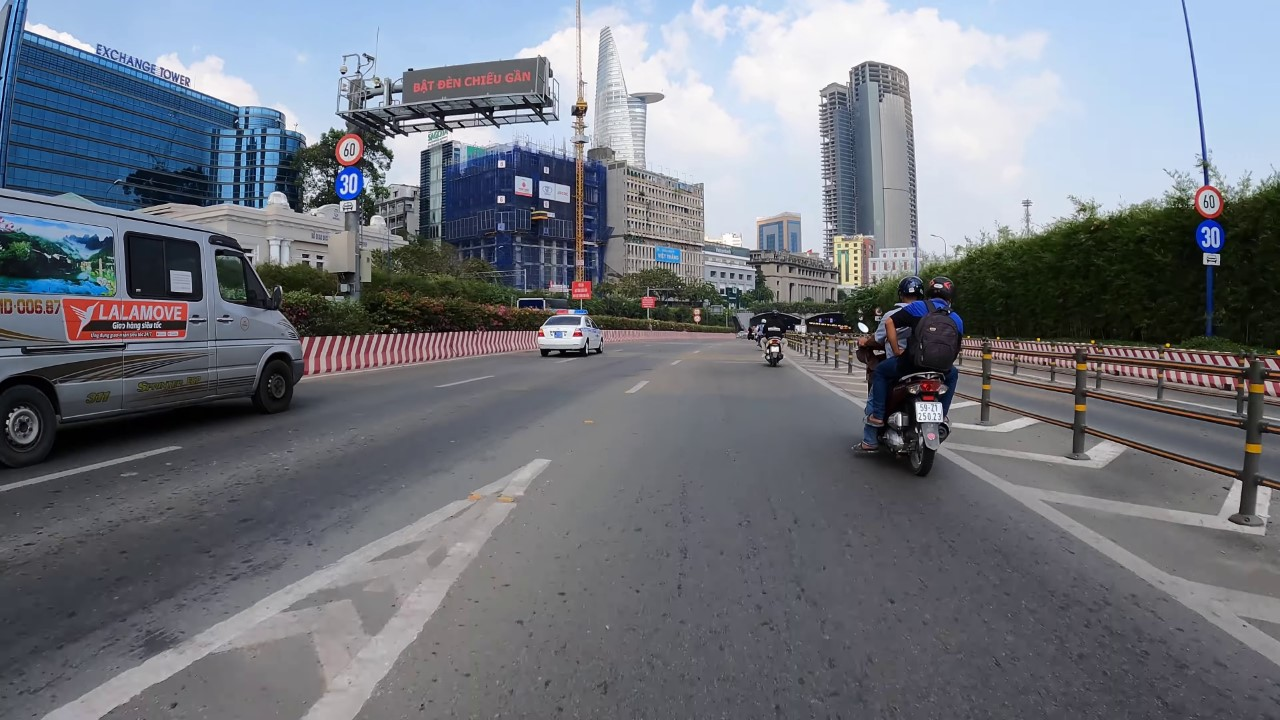gioi_han_60km: (1191, 181, 1226, 220), (333, 131, 365, 168)
